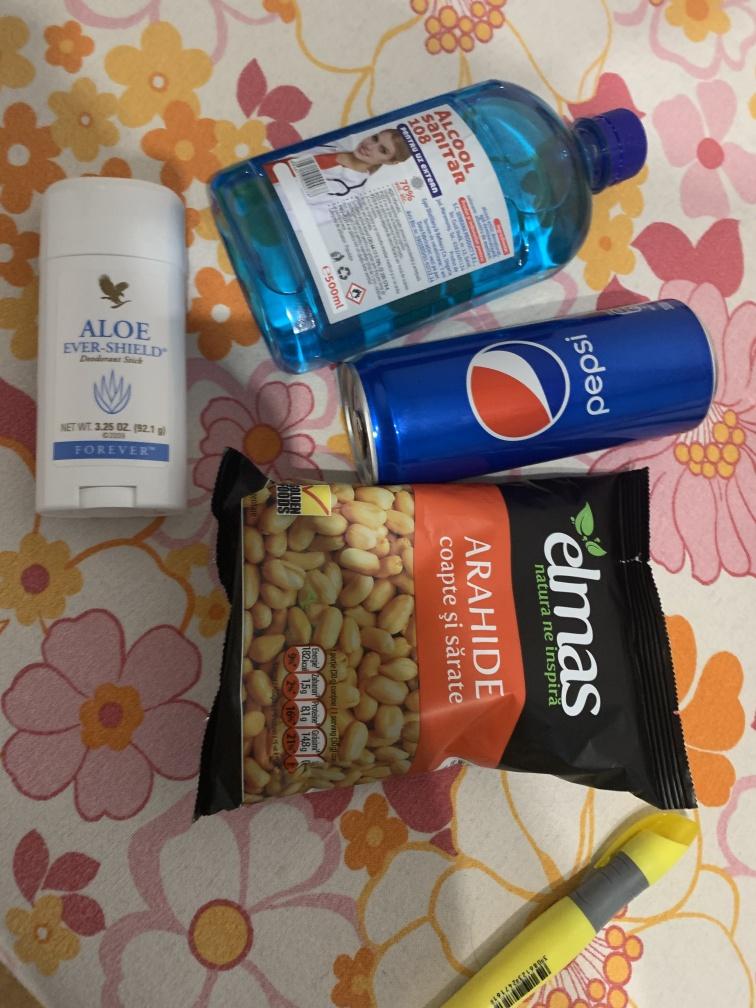peanuts: (202, 465, 702, 827)
pepsi: (307, 298, 725, 473)
